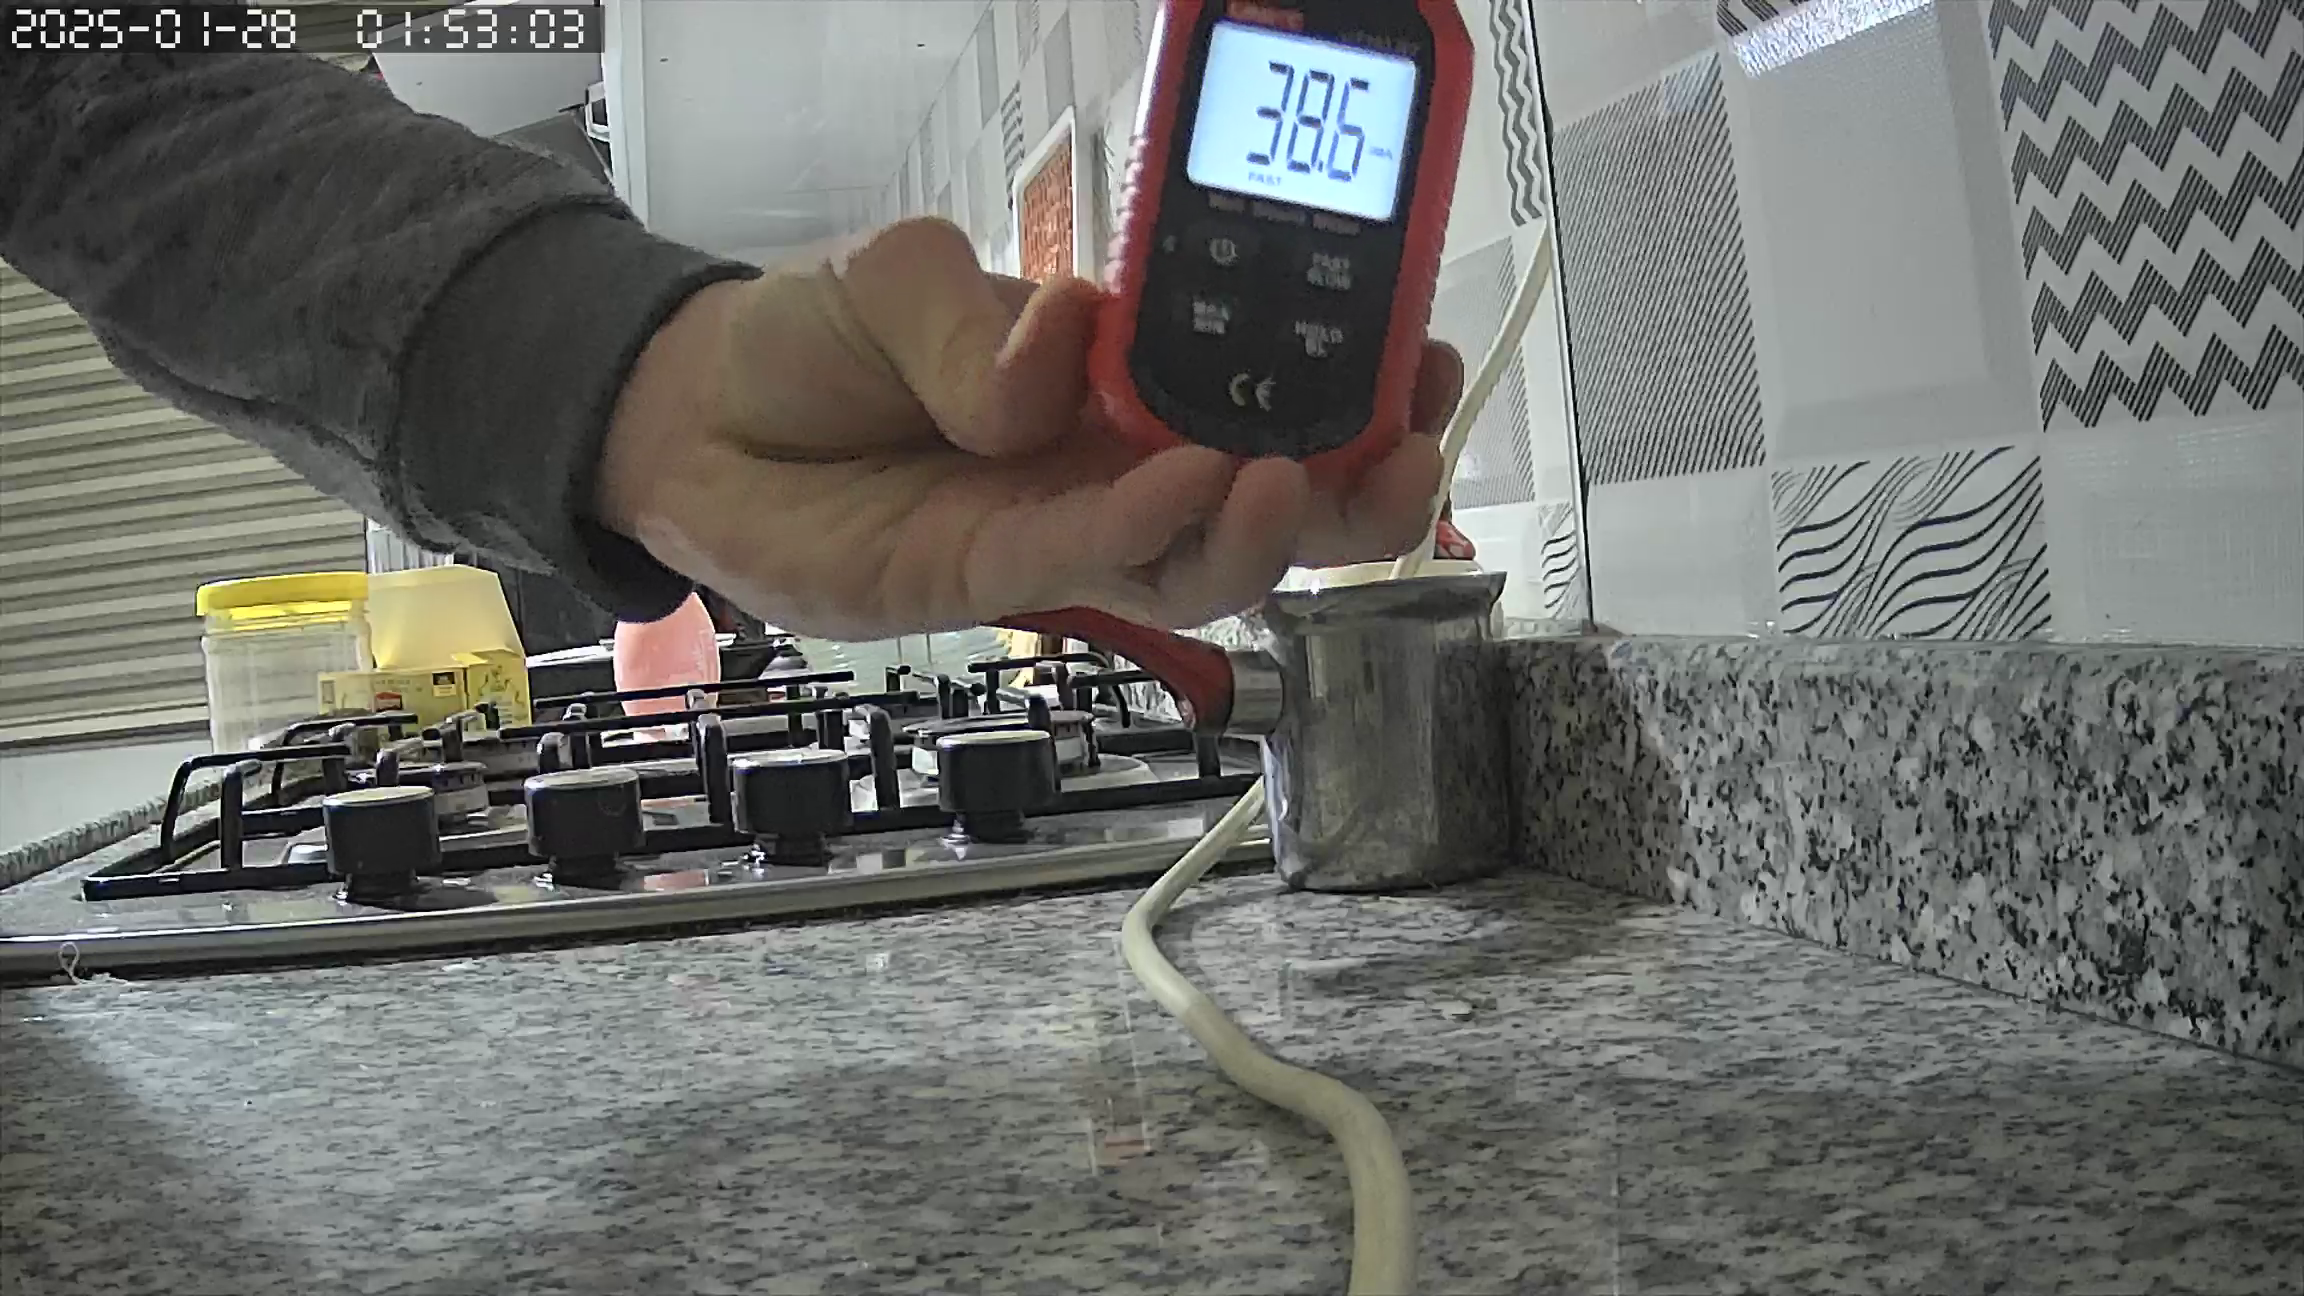screen: (1185, 21, 1412, 225)
